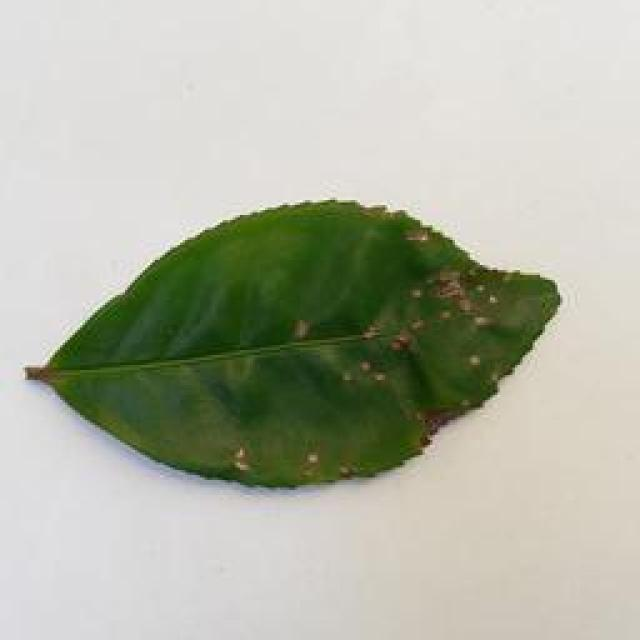Helopeltis: (24, 191, 565, 499)
